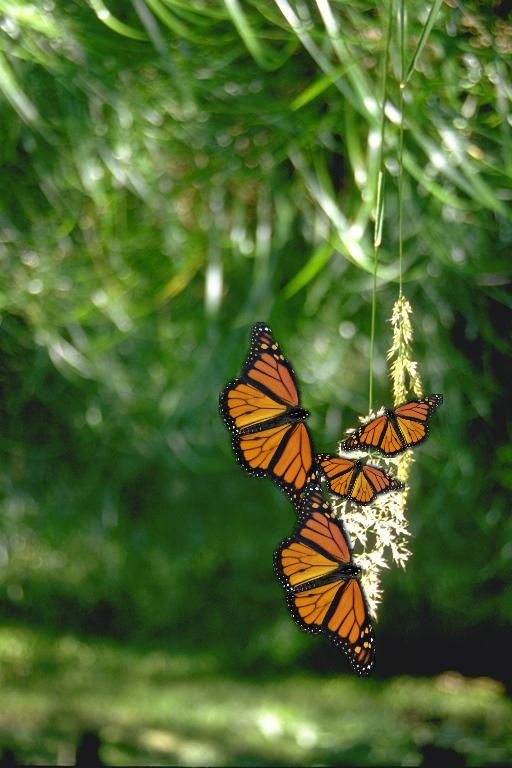danaus_plexippus: (219, 322, 321, 524), (273, 482, 375, 677), (341, 394, 443, 458), (303, 453, 405, 506)
